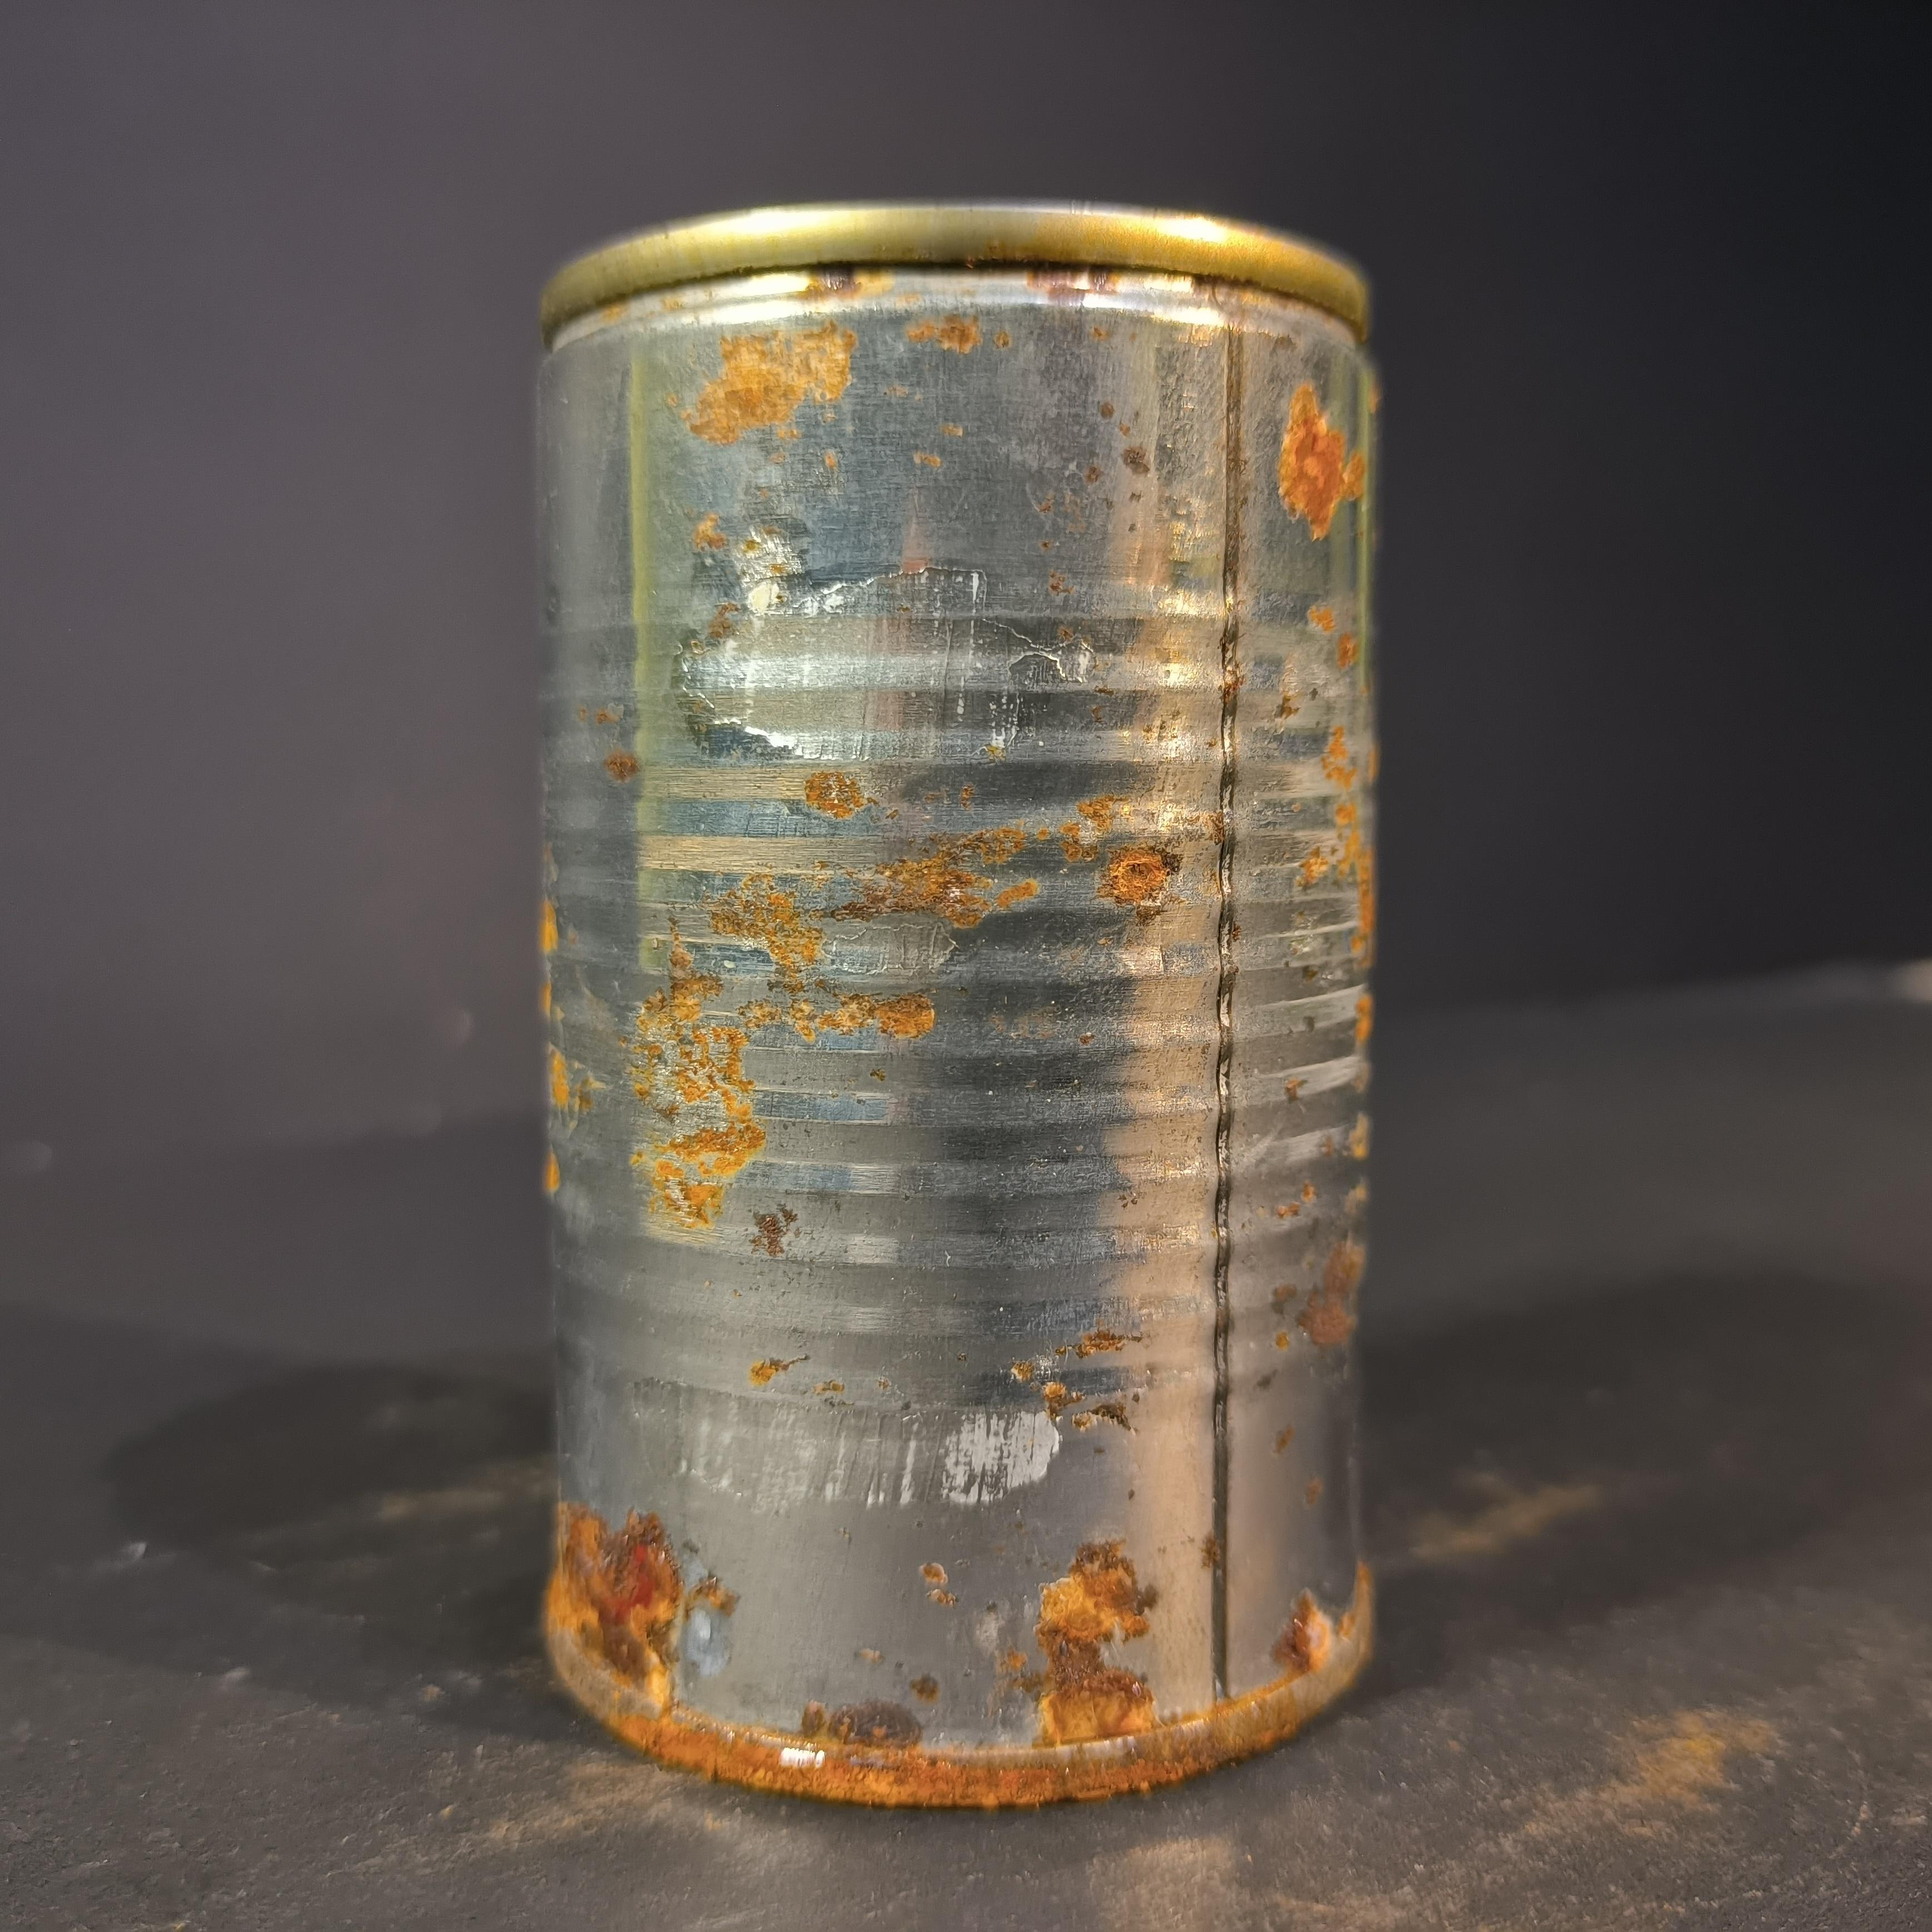Rusted: (481, 173, 1442, 1831)
